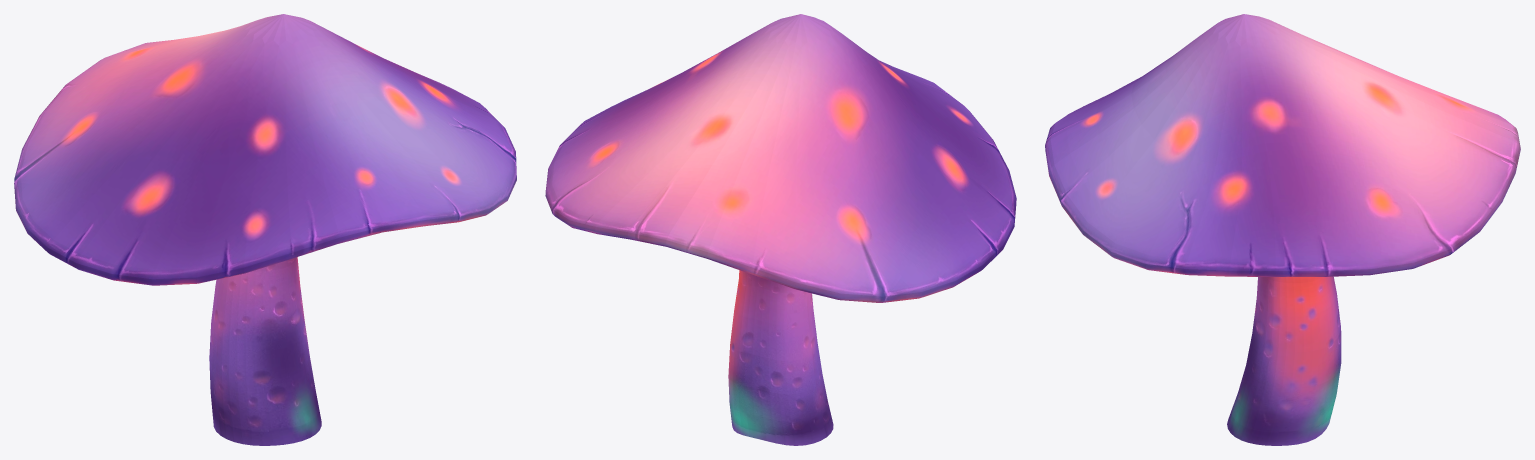
Rendered from mushroom-near.glb.
The picture shows the model from 3 angles, left to right: view 1: azimuth 30°, elevation 25°; view 2: azimuth 150°, elevation 25°; view 3: azimuth 270°, elevation 25°; orthographic projection. The views are drawn at different scales.
Visible parts, largest first — view 1: Circle_mushroms_0; view 2: Circle_mushroms_0; view 3: Circle_mushroms_0.
Boxes of the visible parts, bbox=[...] form: Circle_mushroms_0: bbox=[14, 14, 516, 445]; Circle_mushroms_0: bbox=[545, 14, 1016, 445]; Circle_mushroms_0: bbox=[1045, 14, 1520, 445].
Size of the model in its own units: 19.22 by 18 by 18.92.
Materials: 1 (1 with a texture image).
